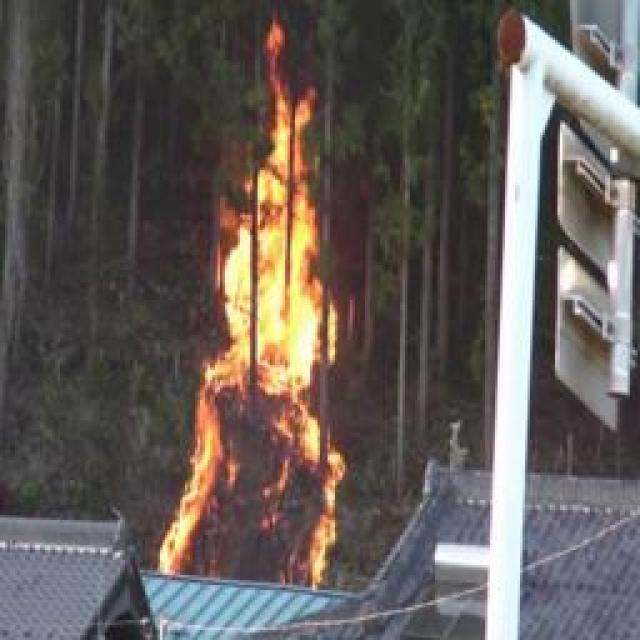Fire: (158, 19, 344, 588)
